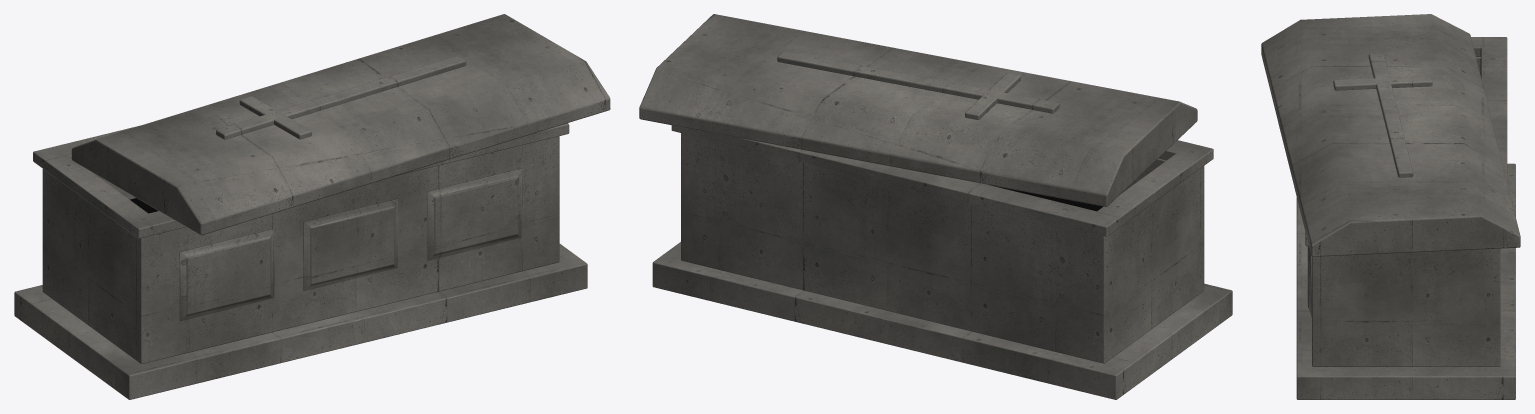
The model's file is Sarcophagus.gltf.
The picture shows the model from 3 angles, left to right: view 1: azimuth 30°, elevation 25°; view 2: azimuth 150°, elevation 25°; view 3: azimuth 270°, elevation 25°; orthographic projection. The views are drawn at different scales.
Parts seen in each view (by area): view 1: Sarcophagus_Body, Sarcophagus_Lid; view 2: Sarcophagus_Body, Sarcophagus_Lid; view 3: Sarcophagus_Lid, Sarcophagus_Body.
Part boxes in pixels (box(x1,y1,x2,y2)): Sarcophagus_Body: box(14, 123, 587, 399); Sarcophagus_Lid: box(71, 14, 610, 235); Sarcophagus_Body: box(652, 125, 1232, 399); Sarcophagus_Lid: box(639, 14, 1197, 206); Sarcophagus_Lid: box(1261, 14, 1520, 256); Sarcophagus_Body: box(1296, 37, 1515, 399).
Size of what is drawn, in the model's own units: 2.45 by 0.985 by 1.18.
Materials: 2 (1 with a texture image).
